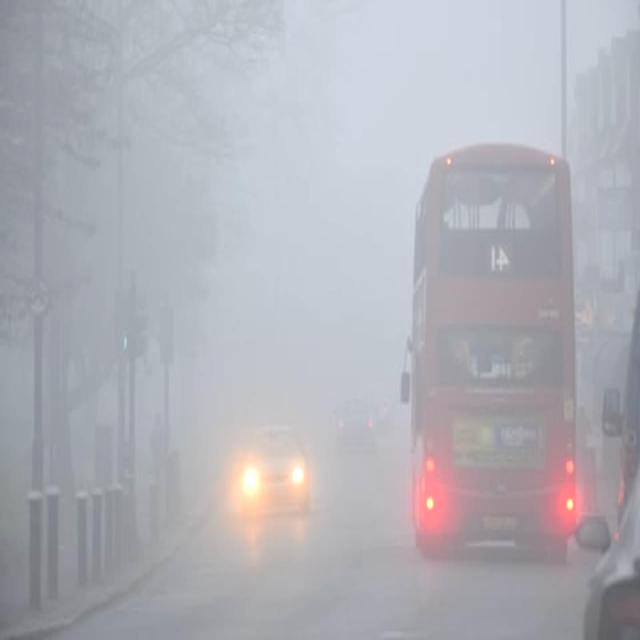Bus: (402, 127, 586, 561)
Car: (596, 267, 640, 504), (236, 421, 314, 523), (334, 370, 386, 466)
